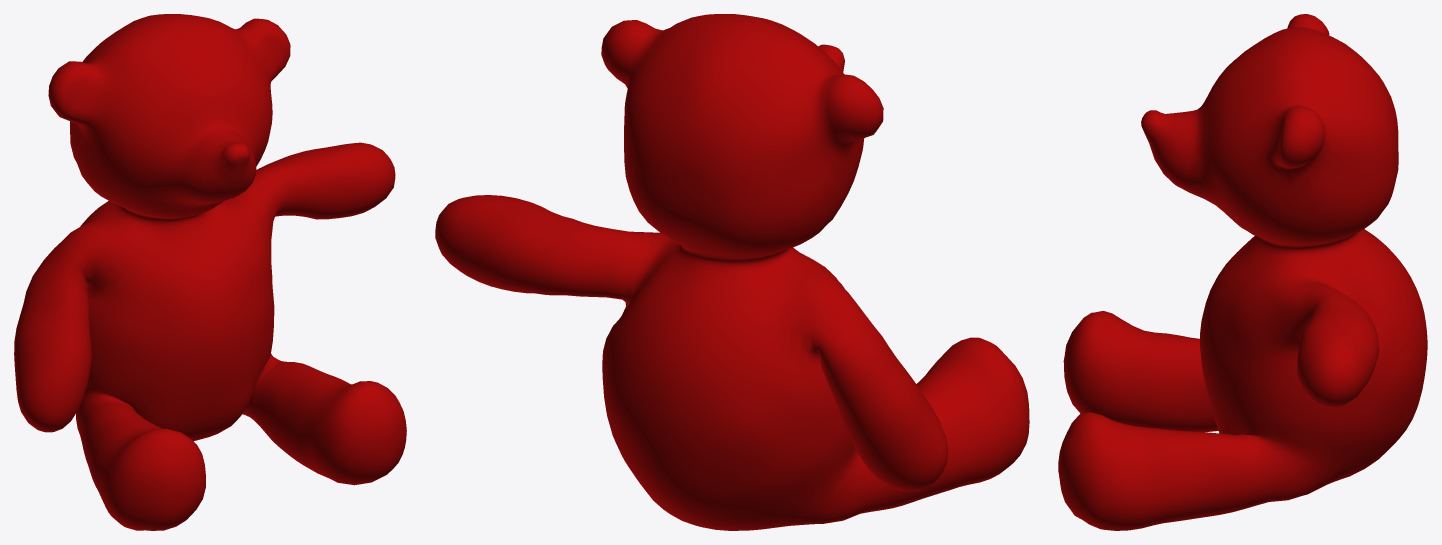
The model's file is oso_abrazo.glb.
The picture shows the model from 3 angles, left to right: view 1: azimuth 30°, elevation 25°; view 2: azimuth 150°, elevation 25°; view 3: azimuth 270°, elevation 25°; orthographic projection. The views are drawn at different scales.
Visible parts, largest first — view 1: Oso_Abrazando1:Group42068; view 2: Oso_Abrazando1:Group42068; view 3: Oso_Abrazando1:Group42068.
Boxes of the visible parts, x1=… form: Oso_Abrazando1:Group42068: x1=14, y1=14, x2=406, y2=530; Oso_Abrazando1:Group42068: x1=435, y1=14, x2=1029, y2=530; Oso_Abrazando1:Group42068: x1=1058, y1=14, x2=1427, y2=530.
Bounding box in the file's own units: 5.27 × 5.27 × 4.06.
